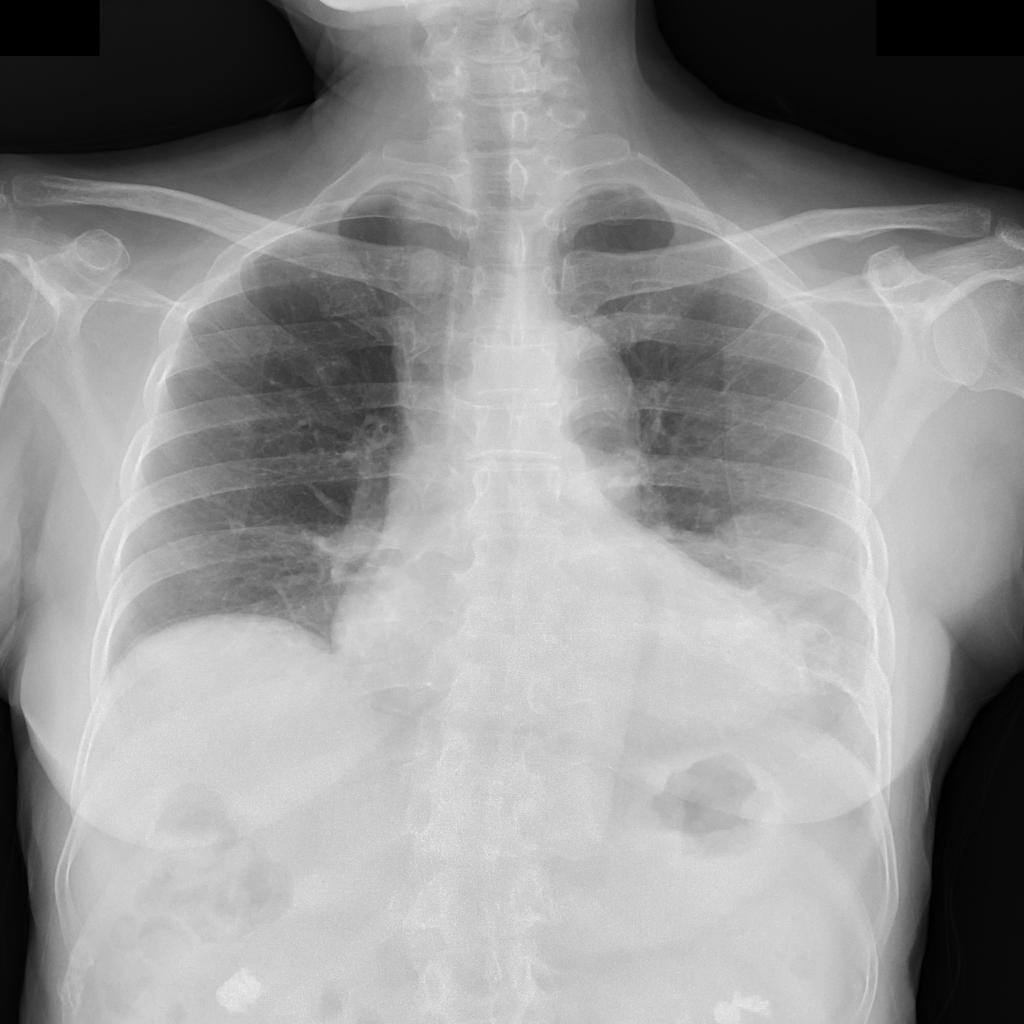Nodule: (704, 510, 819, 614)
